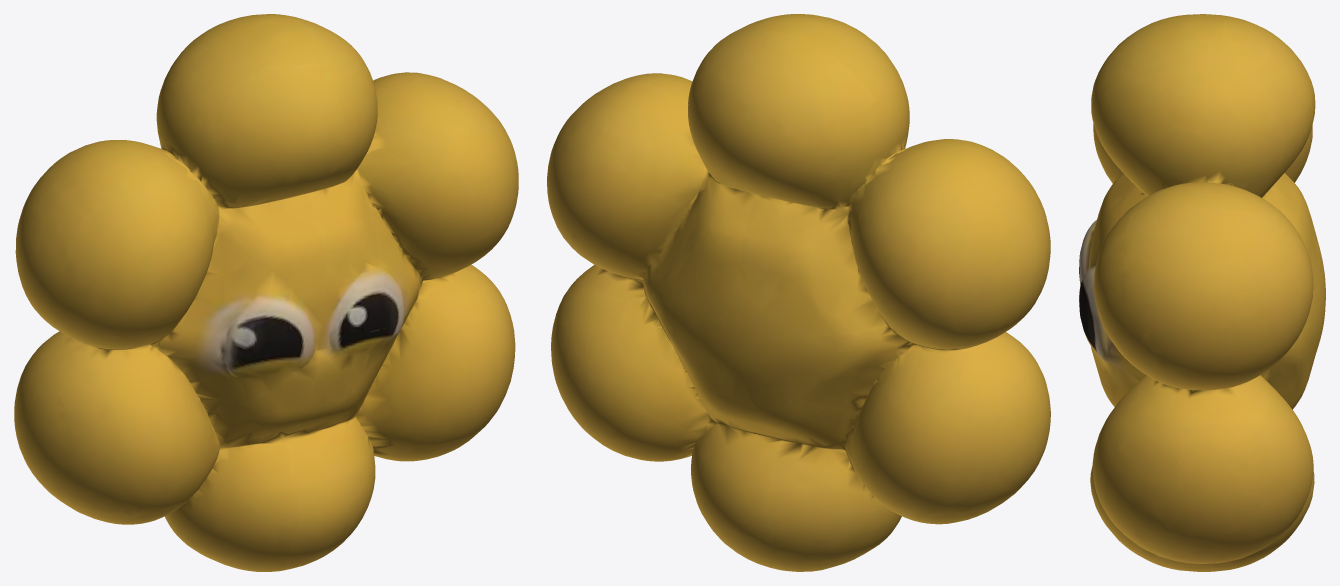
Rendered from flower.glb.
3 views of the same model, side by side, from view 1: azimuth 30°, elevation 25°; view 2: azimuth 150°, elevation 25°; view 3: azimuth 270°, elevation 25° (orthographic).
Visible parts, largest first — view 1: tripo_node_b76b929c-70d6-47e2-9a92-7f51e1901dff; view 2: tripo_node_b76b929c-70d6-47e2-9a92-7f51e1901dff; view 3: tripo_node_b76b929c-70d6-47e2-9a92-7f51e1901dff.
Boxes of the visible parts, x1,y1,x2,y2 form: tripo_node_b76b929c-70d6-47e2-9a92-7f51e1901dff: (14, 14, 518, 571); tripo_node_b76b929c-70d6-47e2-9a92-7f51e1901dff: (547, 14, 1050, 571); tripo_node_b76b929c-70d6-47e2-9a92-7f51e1901dff: (1079, 14, 1325, 571).
Size of the model in its own units: 0.9305 by 0.9999 by 0.4133.
1 material, 1 textured.
